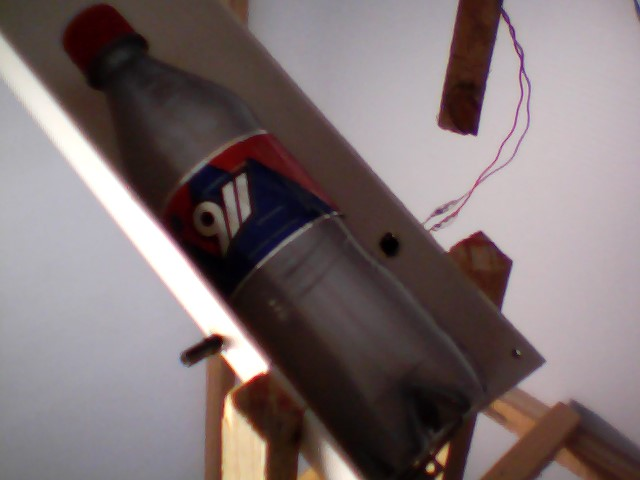plastico: (54, 1, 492, 480)
